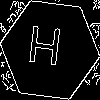H: (25, 25, 63, 75)
